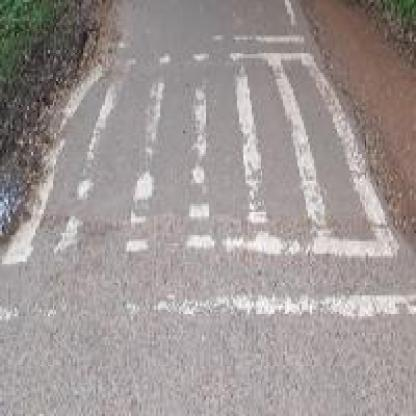Speed Bump: (0, 31, 414, 337)
